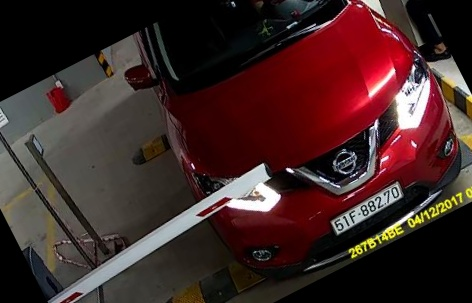plate: (330, 179, 402, 239)
